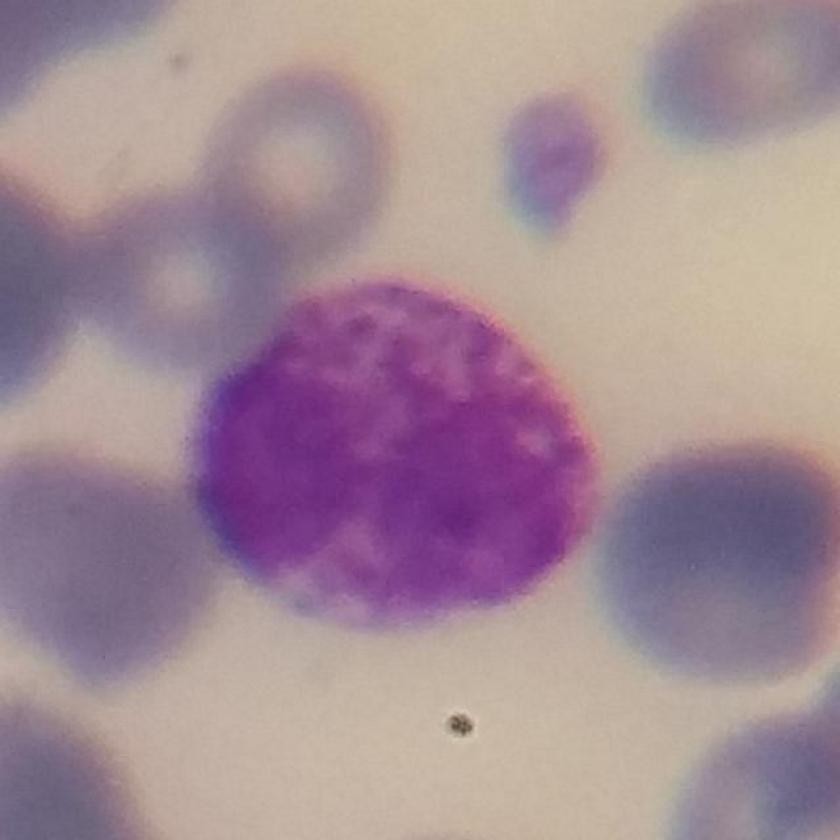basophil: (181, 273, 613, 642)
